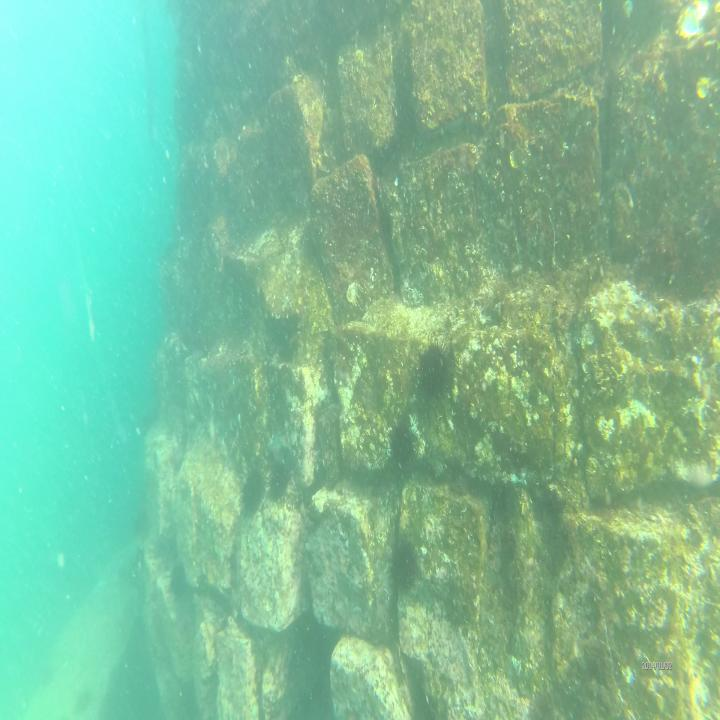echinus: (414, 336, 455, 408), (390, 534, 421, 601), (387, 420, 418, 477), (238, 468, 266, 514), (268, 460, 292, 506), (168, 560, 188, 598)
scallop: (674, 0, 711, 44)
